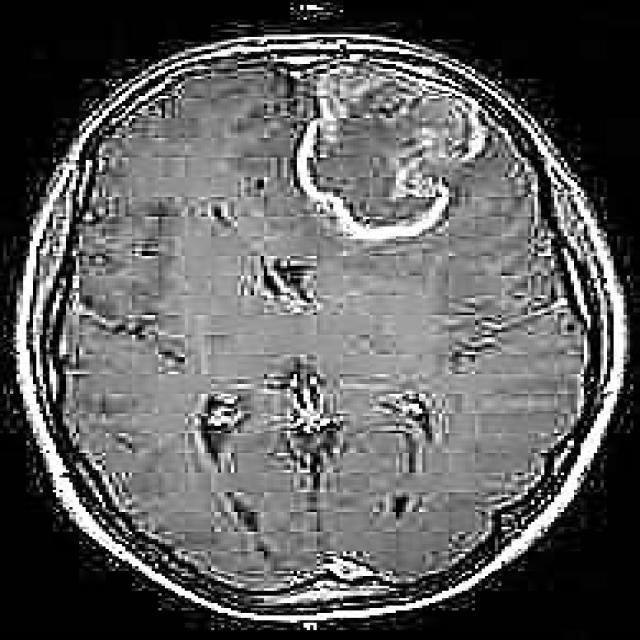brain tumor: (297, 64, 488, 239)
